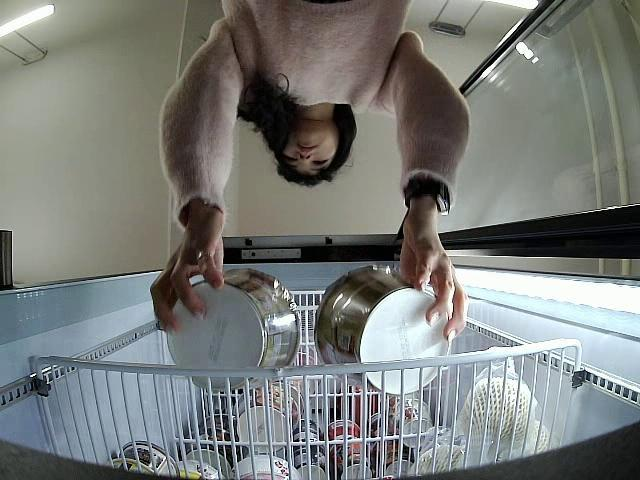03_chapagetti_L: (314, 264, 452, 394), (164, 268, 303, 394)
